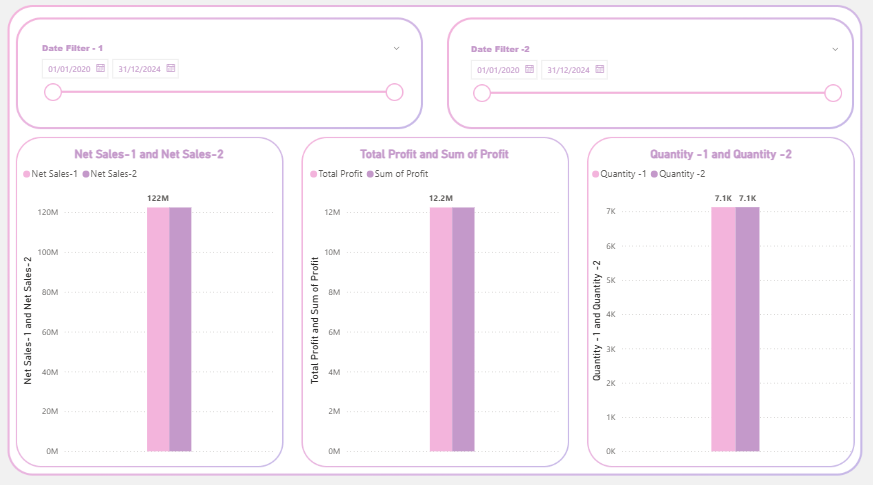

Layout of this report page (visuals, bound fields, positions):
{"tool":"powerbi","page":{"name":"Salse/Profit/QTY","canvas":[1280,720],"ordinal":2},"visuals":[{"type":"slicer","fields":{"Values":["Date Table 1.Date"]},"box":[56.9,63.1,544.6,146.2],"z":0},{"type":"slicer","fields":{"Values":["Date Table 2.Date"]},"box":[678.5,64.6,558.5,144.6],"z":1},{"type":"clusteredColumnChart","fields":{"Y":["Sum(Fact Table.Net Salse)","Date Table 1.Sum Of Net Salse"]},"box":[36.9,220,376.9,455.4],"z":2},{"type":"clusteredColumnChart","fields":{"Y":["Measures (2).Total Profit","Sum(Fact Table.Profit )"]},"box":[452.3,220,372.3,455.4],"z":3},{"type":"clusteredColumnChart","fields":{"Y":["Sum(Fact Table.Units Sold)","Measures (2).Total QTY"]},"box":[861.5,220,386.2,455.4],"z":4}]}

Visuals, with their boxes in screenshot pixels (x1, y1, x2, y2), scaled from the page's 1280x720 canvas onto the 873x485 screenshot:
slicer - Date Table 1.Date: BBox(39, 43, 410, 141)
slicer - Date Table 2.Date: BBox(463, 44, 844, 141)
clusteredColumnChart - Sum(Fact Table.Net Salse) x Date Table 1.Sum Of Net Salse: BBox(25, 148, 282, 455)
clusteredColumnChart - Measures (2).Total Profit x Sum(Fact Table.Profit ): BBox(308, 148, 562, 455)
clusteredColumnChart - Sum(Fact Table.Units Sold) x Measures (2).Total QTY: BBox(588, 148, 851, 455)
